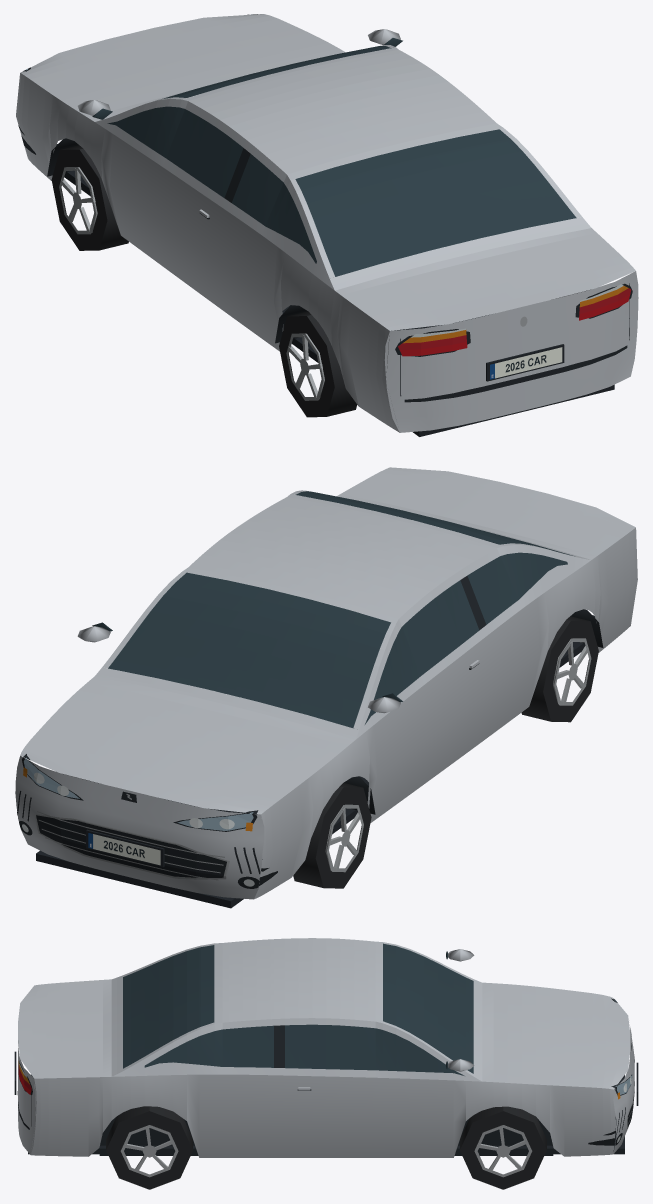
Rendered from Entrega_7_LOD2.glb.
3 views of the same model, one above another, from view 1: azimuth 30°, elevation 25°; view 2: azimuth 150°, elevation 25°; view 3: azimuth 270°, elevation 25° (orthographic). The views are drawn at different scales.
Parts seen in each view (by area): view 1: Body, Glass, Wheel_RL, Wheel_FL, Plates, BrakeLights, TailLights; view 2: Body, Glass, Wheel_FL, Wheel_RL, Headlights, Plates; view 3: Body, Glass, Wheel_RR, Wheel_FR.
Part boxes in pixels (box(x1,y1,x2,y2)): Body: box(16, 14, 638, 436); Glass: box(92, 38, 576, 276); Wheel_RL: box(279, 311, 357, 417); Wheel_FL: box(51, 145, 128, 250); Plates: box(490, 347, 562, 379); BrakeLights: box(398, 288, 631, 350); TailLights: box(400, 294, 630, 356); Body: box(15, 467, 637, 908); Glass: box(92, 491, 574, 727); Wheel_FL: box(293, 783, 371, 888); Wheel_RL: box(521, 616, 598, 722); Headlights: box(22, 757, 254, 886); Plates: box(88, 833, 160, 865); Body: box(14, 938, 638, 1157); Glass: box(123, 943, 473, 1075); Wheel_RR: box(106, 1106, 192, 1189); Wheel_FR: box(460, 1106, 546, 1189).
Bounding box in the file's own units: 2.21 × 1.4 × 4.82.
11 materials, 1 textured.
